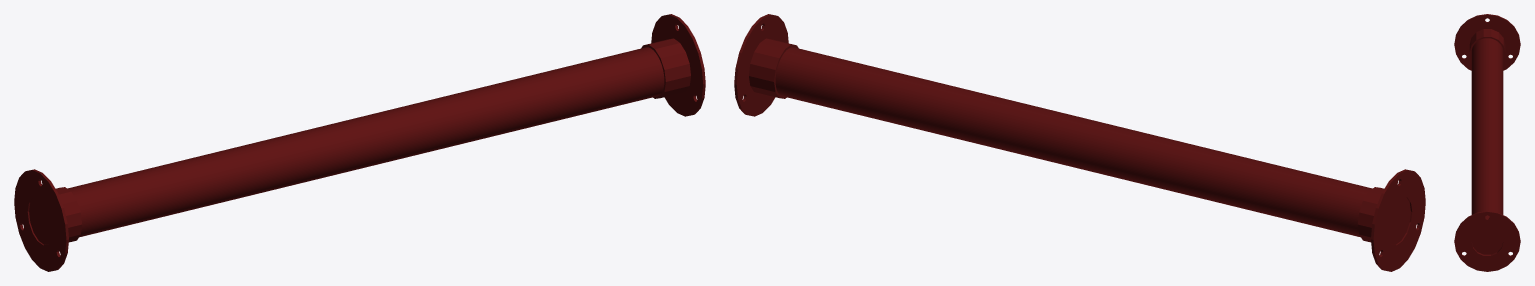
The model's file is shtanga_1782068387738.glb.
3 renders of one model, left to right at view 1: azimuth 30°, elevation 25°; view 2: azimuth 150°, elevation 25°; view 3: azimuth 270°, elevation 25°, orthographic. The views are drawn at different scales.
Parts seen in each view (by area): view 1: Geom3D; view 2: Geom3D; view 3: Geom3D.
Part boxes in pixels (left/top/right/bottom): Geom3D: left=14, top=14, right=705, bottom=271; Geom3D: left=734, top=14, right=1425, bottom=271; Geom3D: left=1454, top=14, right=1520, bottom=271.
Size of the model in its own units: 0.367 by 0.052 by 0.052.
